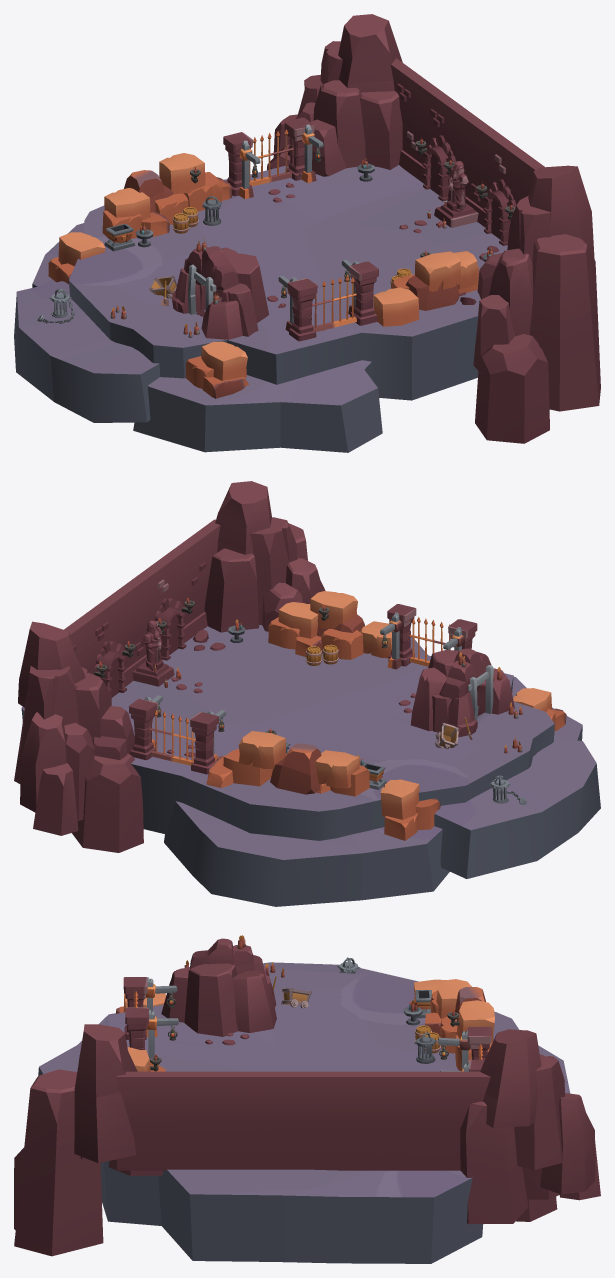
The model's file is Cave Fighting level.fbx.
3 renders of one model, top to bottom at view 1: azimuth 30°, elevation 25°; view 2: azimuth 150°, elevation 25°; view 3: azimuth 270°, elevation 25°, orthographic. The views are drawn at different scales.
Parts seen in each view (by area): view 1: Plane.009, Circle.007, Cube.048, Circle.026, Circle.178, Circle.019, Circle.179, Circle.180, Circle.024, Circle.021, Circle.022, Cube.040 (+35 smaller); view 2: Plane.009, Cube.048, Circle.025, Circle.018, Circle.019, Circle.118, Circle.151, Circle.178, Circle.022, Circle.169, Circle.027, Circle.119 (+32 smaller); view 3: Plane.009, Cube.048, Circle.007, Circle.019, Circle.180, Circle.178, Circle.151, Circle.118, Circle.034, Circle.033, Cube.021, Circle.030 (+15 smaller).
Boxes of the visible parts, box(x1,y1,x2,y2) form: Plane.009: box(14, 165, 507, 452); Circle.007: box(530, 234, 600, 411); Cube.048: box(390, 58, 544, 227); Circle.026: box(475, 334, 549, 443); Circle.178: box(338, 14, 402, 92); Circle.019: box(528, 165, 594, 258); Circle.179: box(313, 80, 365, 168); Circle.180: box(359, 91, 402, 169); Circle.024: box(489, 248, 533, 335); Circle.021: box(473, 295, 514, 373); Circle.022: box(507, 196, 551, 262); Cube.040: box(373, 287, 419, 326); Plane.009: box(21, 625, 600, 906); Cube.048: box(64, 519, 220, 686); Circle.025: box(72, 753, 143, 852); Circle.018: box(204, 548, 258, 632); Circle.019: box(215, 481, 271, 554); Circle.118: box(20, 712, 67, 812); Circle.151: box(19, 666, 78, 761); Circle.178: box(18, 621, 85, 707); Circle.022: box(249, 517, 297, 624); Circle.169: box(33, 763, 78, 835); Circle.027: box(270, 743, 321, 794); Circle.119: box(64, 722, 94, 820); Plane.009: box(38, 962, 570, 1263); Cube.048: box(117, 1071, 490, 1170); Circle.007: box(14, 1069, 103, 1256); Circle.019: box(74, 1024, 137, 1163); Circle.180: box(460, 1101, 528, 1224); Circle.178: box(480, 1029, 541, 1128); Circle.151: box(514, 1054, 565, 1169); Circle.118: box(540, 1093, 595, 1194); Circle.034: box(184, 963, 237, 1036); Circle.033: box(233, 970, 276, 1032); Cube.021: box(456, 1000, 494, 1041); Circle.030: box(161, 967, 189, 1022).
Bounding box in the file's own units: 10.85 × 4.7 × 10.53.
